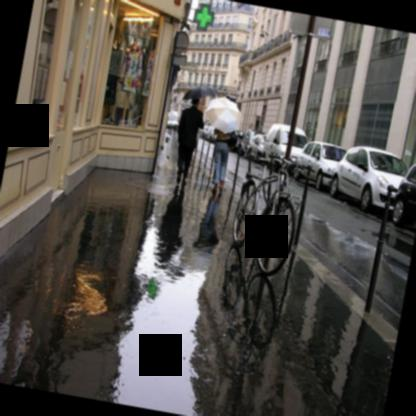handbag: (226, 131, 236, 148)
